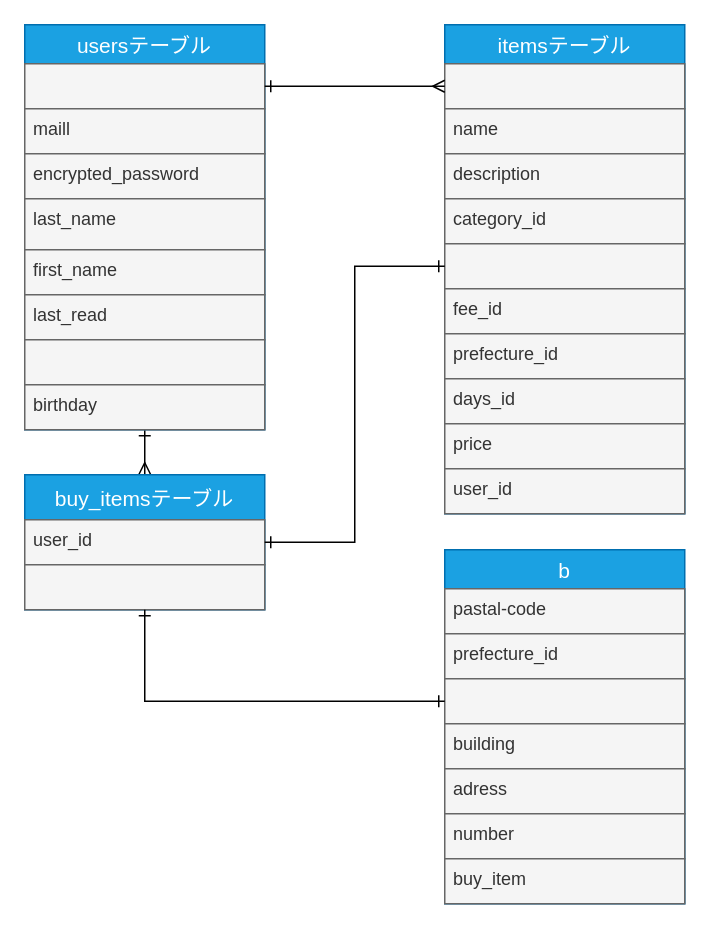
Some shapes in this 710 by 929 pixel diagram are drawn without their labels. Each missing label, with the centre of its shape:
"city" belongs at (x=564, y=700).
"conditon_id" belongs at (x=564, y=265).
"first_read" belongs at (x=144, y=361).
"image" belongs at (x=564, y=85).
"item_id" belongs at (x=144, y=586).
"nickname" belongs at (x=144, y=85).
